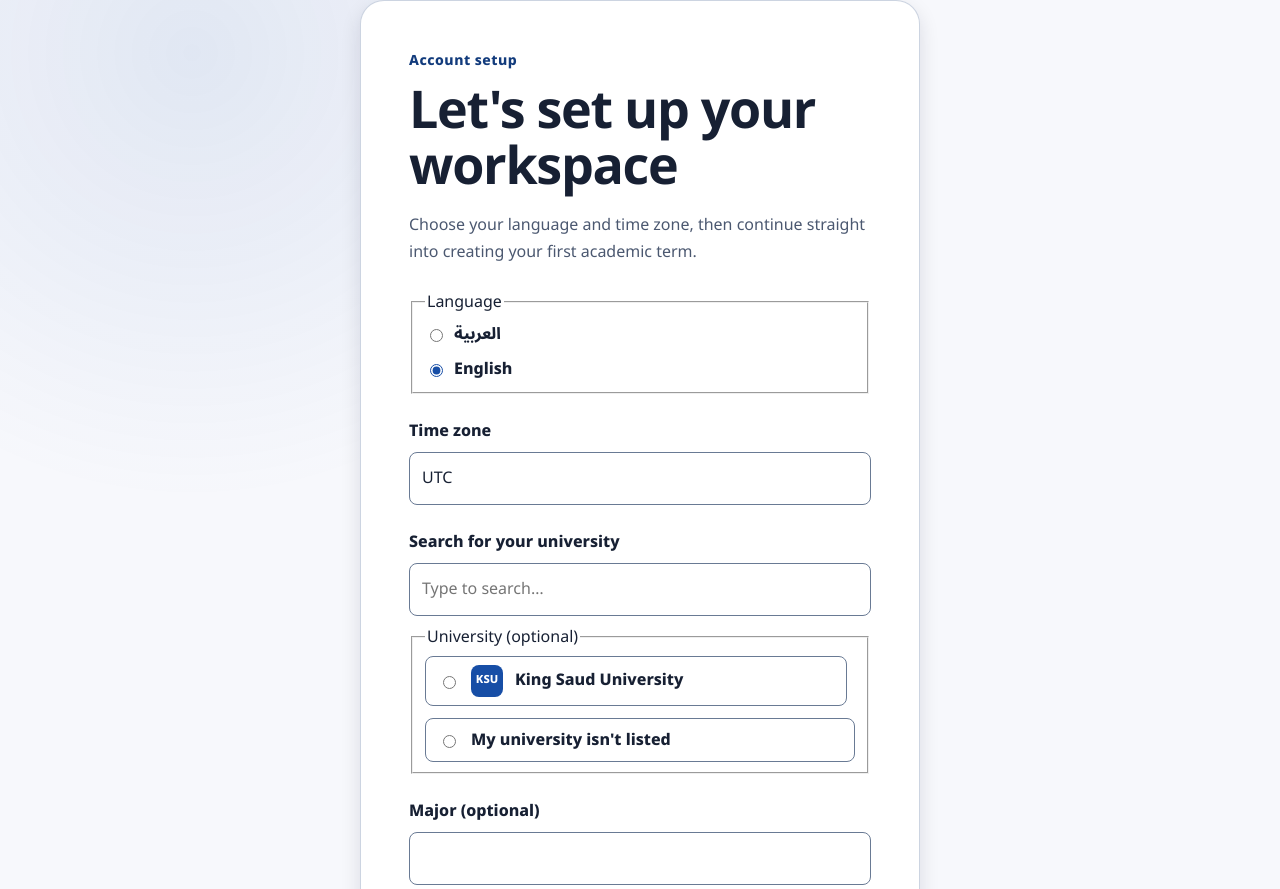
onboarding form › lists catalog universities and shows free text only when not listed
This screenshot has width=1280, height=889.
Check: the radio button labelled "KSU King Saud University" is shown, box [443, 676, 456, 688]
Check: the field labelled "University name" is not shown
What coordinates should you click on to do the following:
click the radio button labelled "My university isn't listed"
I would click on:
 (450, 741)
Its box is [443, 735, 456, 748].
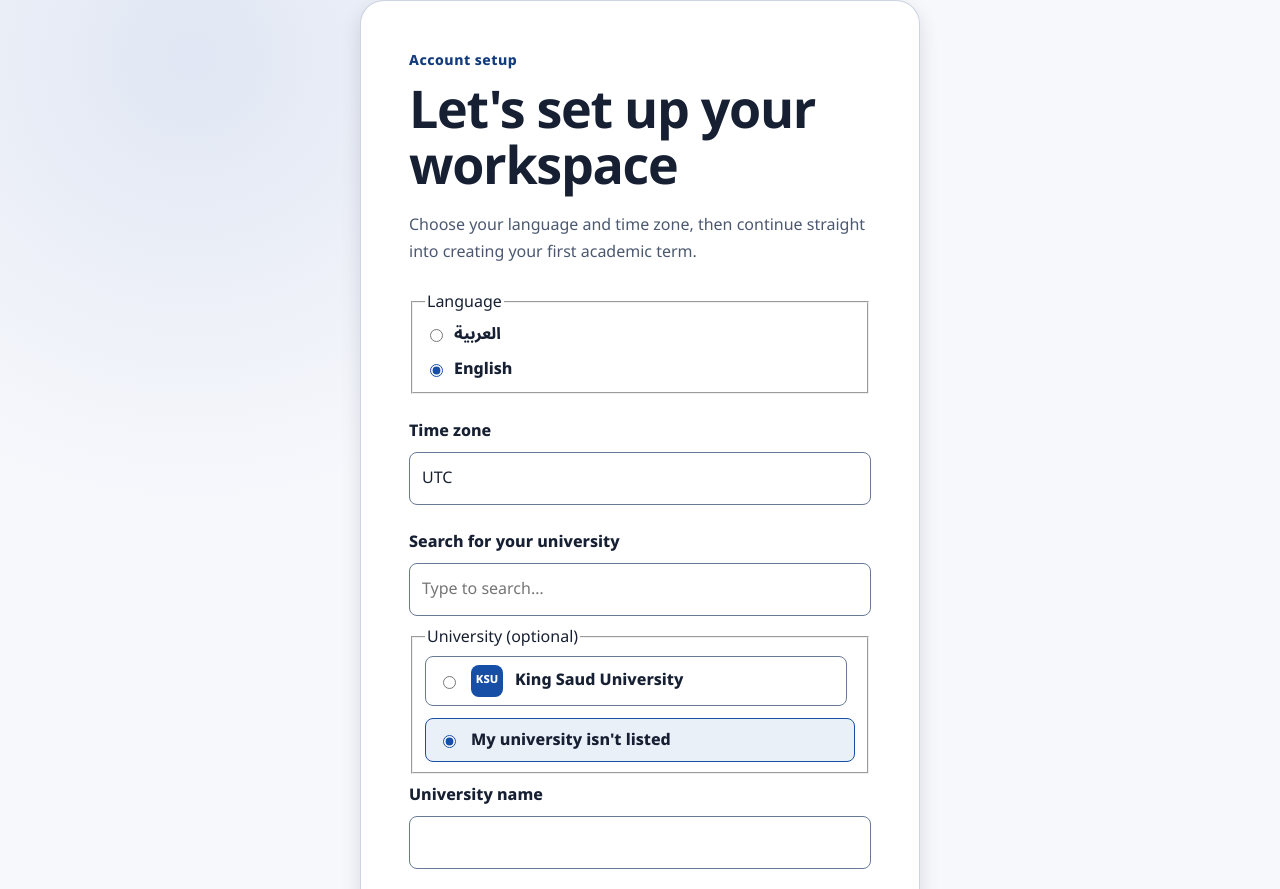
Check: the field labelled "University name" is shown, box [409, 816, 871, 869]
